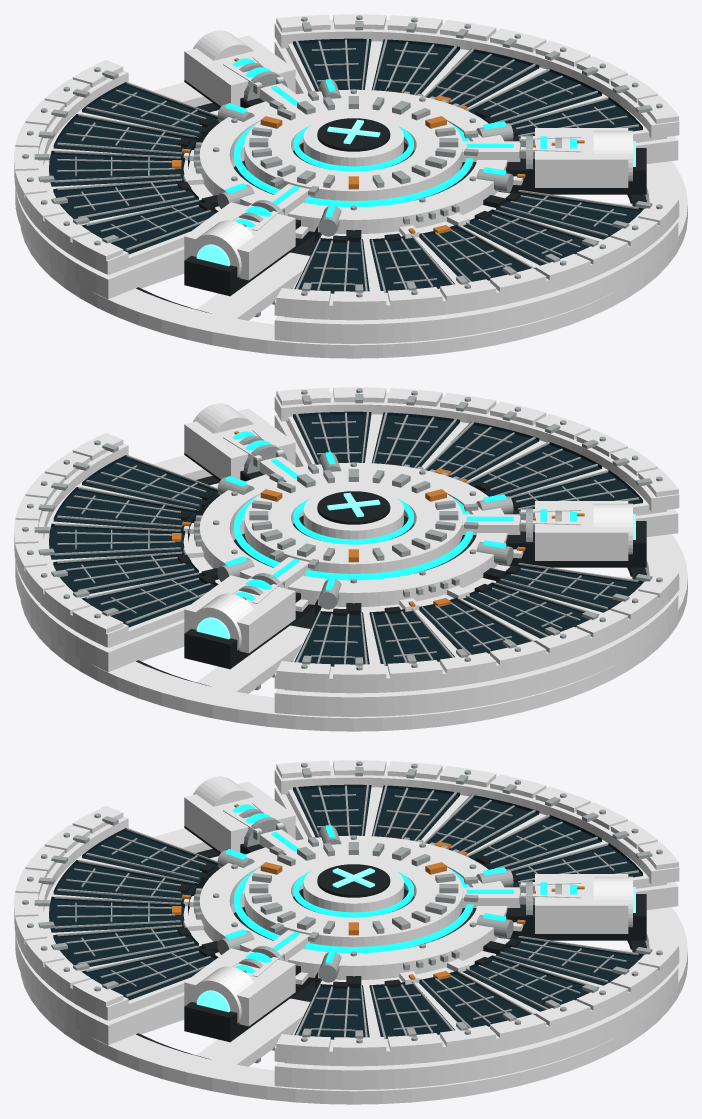
The model's file is morrowgear-solar-service-station-v2-proposal.glb.
3 renders of one model, top to bottom at view 1: azimuth 30°, elevation 25°; view 2: azimuth 150°, elevation 25°; view 3: azimuth 270°, elevation 25°, orthographic.
Parts seen in each view (by area): view 1: VentralOuterRing, CoreOuterArmor, WingLowerFrame_2, CoreInnerArmor, WingOuterArmor_2, WingOuterArmor_3, EmitterArmor_3, WingLowerFrame_1, EmitterArmor_1, SolarCell_1_2, EmitterArmor_2, SolarCell_1_1 (+59 smaller); view 2: VentralOuterRing, CoreOuterArmor, WingLowerFrame_1, CoreInnerArmor, WingOuterArmor_1, WingOuterArmor_2, EmitterArmor_2, WingLowerFrame_3, EmitterArmor_3, SolarCell_3_2, EmitterArmor_1, SolarCell_3_1 (+59 smaller); view 3: VentralOuterRing, CoreOuterArmor, WingLowerFrame_3, CoreInnerArmor, WingOuterArmor_3, WingOuterArmor_1, EmitterArmor_1, WingLowerFrame_2, EmitterArmor_2, SolarCell_2_2, EmitterArmor_3, SolarCell_2_1 (+59 smaller).
Part boxes in pixels (x1=…): VentralOuterRing: x1=20, y1=82, x2=687, y2=358; CoreOuterArmor: x1=199, y1=89, x2=507, y2=233; WingLowerFrame_2: x1=274, y1=221, x2=678, y2=343; CoreInnerArmor: x1=244, y1=99, x2=462, y2=200; WingOuterArmor_2: x1=274, y1=200, x2=679, y2=319; WingOuterArmor_3: x1=274, y1=19, x2=679, y2=138; EmitterArmor_3: x1=535, y1=128, x2=628, y2=187; WingLowerFrame_1: x1=15, y1=144, x2=244, y2=299; EmitterArmor_1: x1=184, y1=35, x2=295, y2=106; SolarCell_1_2: x1=49, y1=150, x2=184, y2=186; EmitterArmor_2: x1=184, y1=202, x2=295, y2=280; SolarCell_1_1: x1=53, y1=114, x2=198, y2=157; VentralOuterRing: x1=20, y1=455, x2=687, y2=731; CoreOuterArmor: x1=199, y1=462, x2=507, y2=606; WingLowerFrame_1: x1=274, y1=594, x2=678, y2=716; CoreInnerArmor: x1=244, y1=472, x2=462, y2=573; WingOuterArmor_1: x1=274, y1=573, x2=679, y2=692; WingOuterArmor_2: x1=274, y1=392, x2=679, y2=511; EmitterArmor_2: x1=535, y1=501, x2=628, y2=560; WingLowerFrame_3: x1=15, y1=518, x2=244, y2=672; EmitterArmor_3: x1=184, y1=408, x2=295, y2=479; SolarCell_3_2: x1=49, y1=523, x2=184, y2=559; EmitterArmor_1: x1=184, y1=575, x2=295, y2=653; SolarCell_3_1: x1=53, y1=487, x2=198, y2=530; VentralOuterRing: x1=20, y1=828, x2=687, y2=1104; CoreOuterArmor: x1=199, y1=835, x2=507, y2=979; WingLowerFrame_3: x1=274, y1=967, x2=678, y2=1089; CoreInnerArmor: x1=244, y1=845, x2=463, y2=946; WingOuterArmor_3: x1=274, y1=946, x2=679, y2=1065; WingOuterArmor_1: x1=274, y1=765, x2=679, y2=884; EmitterArmor_1: x1=535, y1=874, x2=628, y2=933; WingLowerFrame_2: x1=15, y1=891, x2=244, y2=1045; EmitterArmor_2: x1=184, y1=781, x2=295, y2=852; SolarCell_2_2: x1=49, y1=896, x2=184, y2=932; EmitterArmor_3: x1=184, y1=948, x2=295, y2=1026; SolarCell_2_1: x1=53, y1=860, x2=198, y2=903.
Size of the model in its own units: 15.66 by 2.76 by 15.53.
